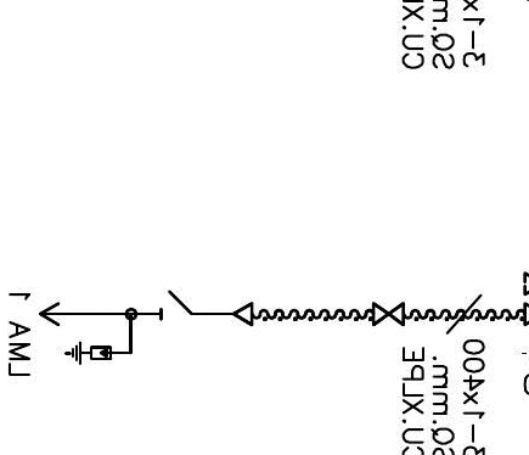22_ds_la_out: (37, 289, 193, 366)
terminator_single: (232, 300, 255, 327)
terminator_splicing_kits: (372, 301, 406, 327)
